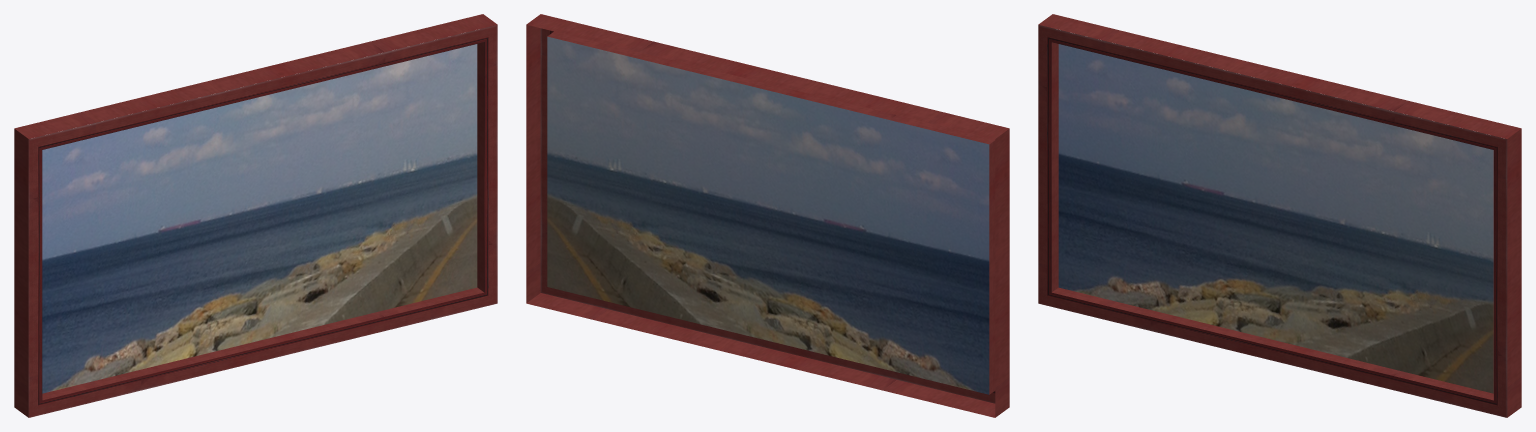
The model's file is Paint03.fbx.
3 views of the same model, side by side, from view 1: azimuth 30°, elevation 25°; view 2: azimuth 150°, elevation 25°; view 3: azimuth 330°, elevation 25° (orthographic).
Visible parts, largest first — view 1: Mesh; view 2: Mesh; view 3: Mesh.
Boxes of the visible parts, <box> form: Mesh: <box>14,14,497,417</box>; Mesh: <box>526,14,1009,417</box>; Mesh: <box>1038,14,1521,417</box>.
Size of the model in its own units: 176 by 100 by 9.5.
